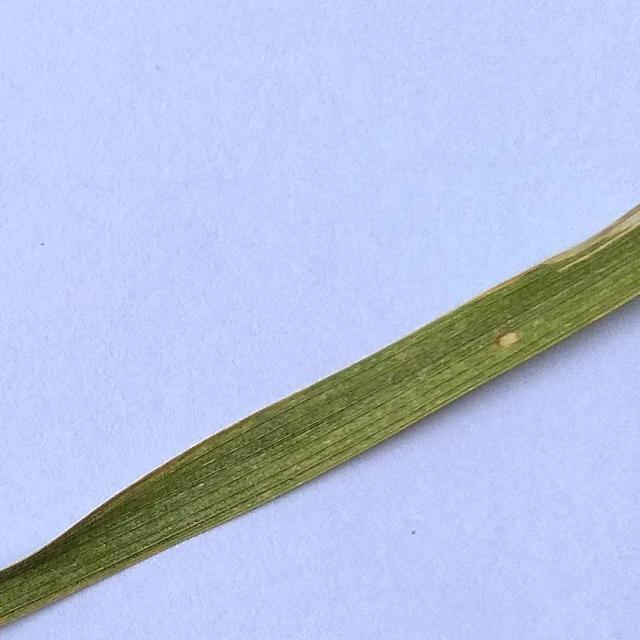Blast: (495, 330, 522, 348)
